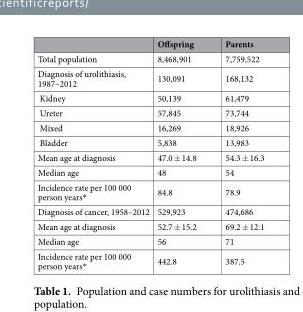table: (36, 37, 263, 272)
table column: (36, 37, 152, 272), (152, 37, 210, 272), (210, 37, 263, 272)
table column header: (36, 37, 263, 50)
table row: (36, 65, 263, 90), (36, 179, 263, 204), (36, 248, 263, 272), (36, 50, 263, 65), (36, 90, 263, 105), (36, 119, 263, 134), (36, 134, 263, 149), (36, 149, 263, 164), (36, 164, 263, 179), (36, 218, 263, 233), (36, 233, 263, 248), (36, 105, 263, 119), (36, 204, 263, 218), (36, 37, 263, 50)
